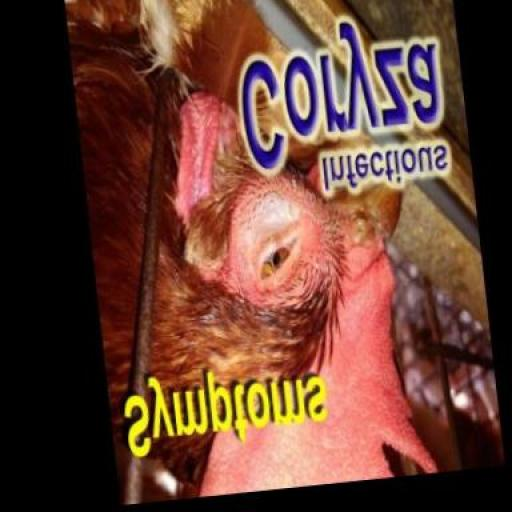disease: (243, 216, 329, 308)
